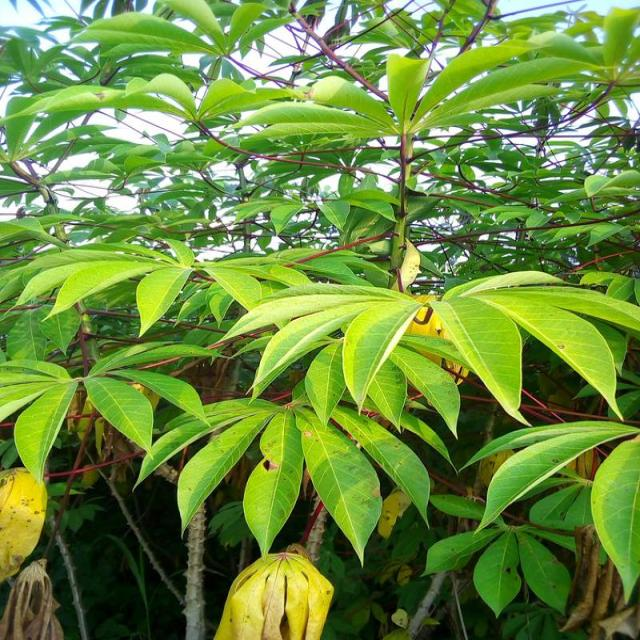cassava leaf: (1, 0, 638, 633), (212, 548, 334, 639)
